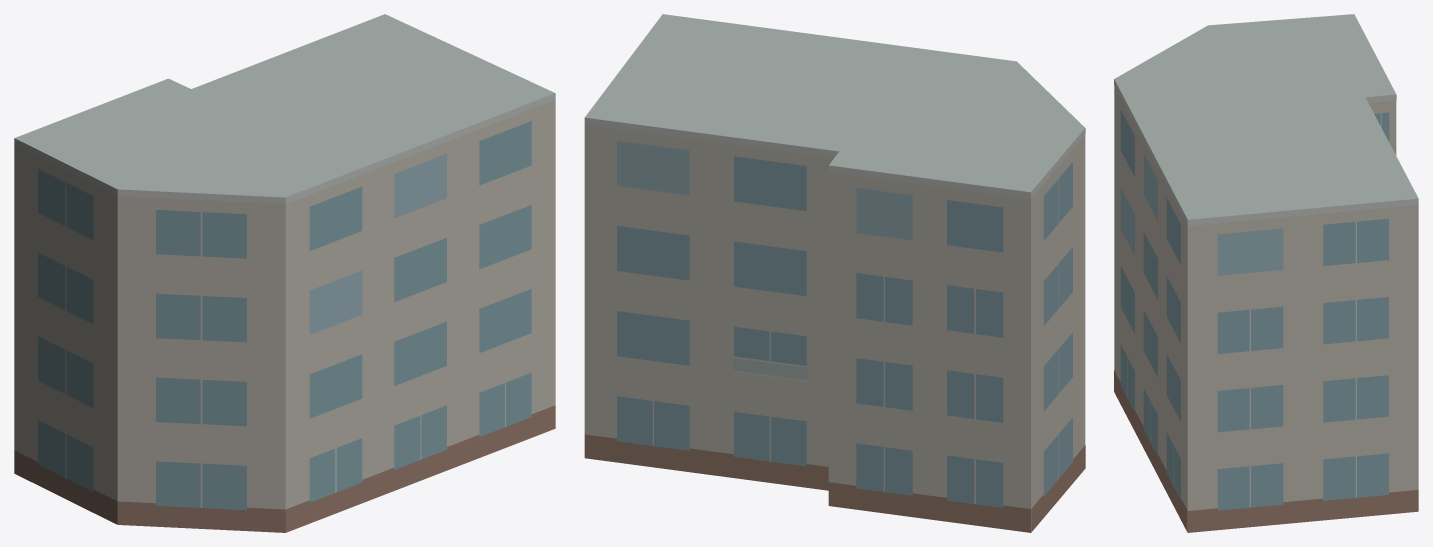
The model's file is survey-upis-32920403.glb.
3 renders of one model, left to right at view 1: azimuth 30°, elevation 25°; view 2: azimuth 150°, elevation 25°; view 3: azimuth 270°, elevation 25°, orthographic. The views are drawn at different scales.
Visible parts, largest first — view 1: survey-upis-32920403.tmp; view 2: survey-upis-32920403.tmp; view 3: survey-upis-32920403.tmp.
Part boxes in pixels (x1,y1,x2,y2): survey-upis-32920403.tmp: [14, 14, 555, 532]; survey-upis-32920403.tmp: [584, 14, 1085, 532]; survey-upis-32920403.tmp: [1114, 14, 1418, 532].
Size of the model in its own units: 17.21 by 12.2 by 10.76.
